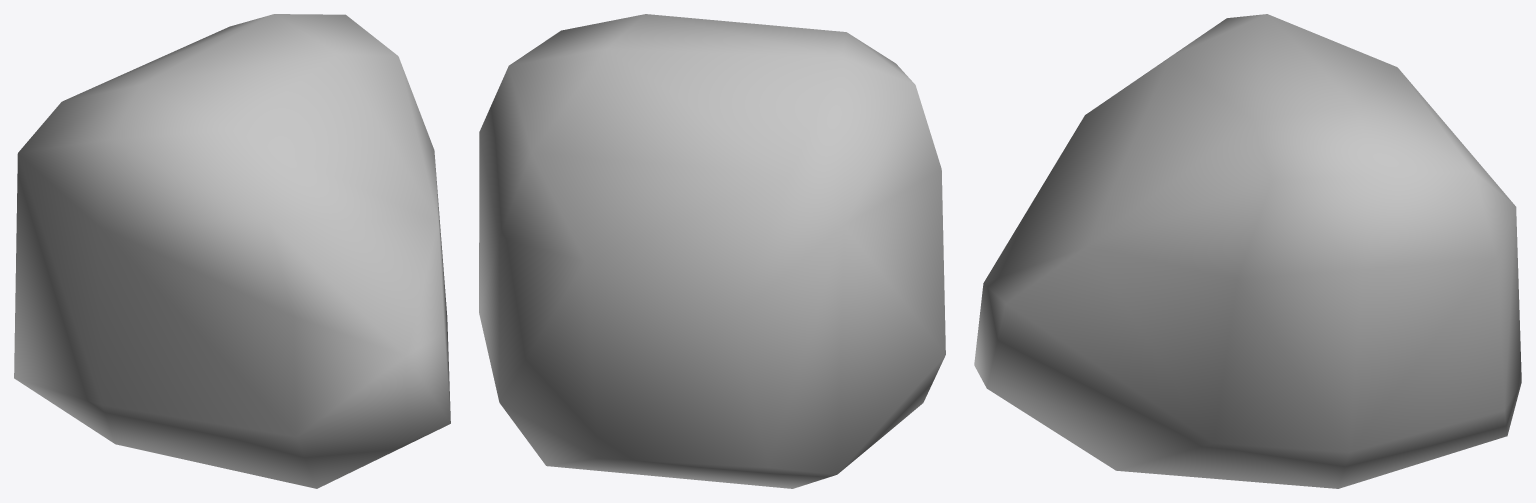
The model's file is Stone7.fbx.
3 renders of one model, left to right at view 1: azimuth 30°, elevation 25°; view 2: azimuth 150°, elevation 25°; view 3: azimuth 270°, elevation 25°, orthographic. The views are drawn at different scales.
Parts seen in each view (by area): view 1: Piedra_7; view 2: Piedra_7; view 3: Piedra_7.
Part boxes in pixels (x1=…): Piedra_7: x1=14, y1=14, x2=450, y2=488; Piedra_7: x1=479, y1=14, x2=945, y2=488; Piedra_7: x1=974, y1=14, x2=1521, y2=488.
Size of the model in its own units: 3.85 by 3.47 by 4.86.
